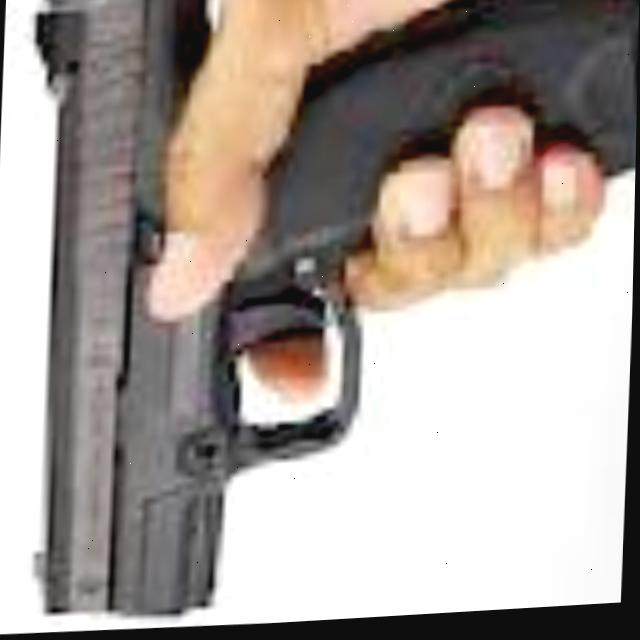pistol: (2, 0, 640, 639), (35, 0, 639, 614)
